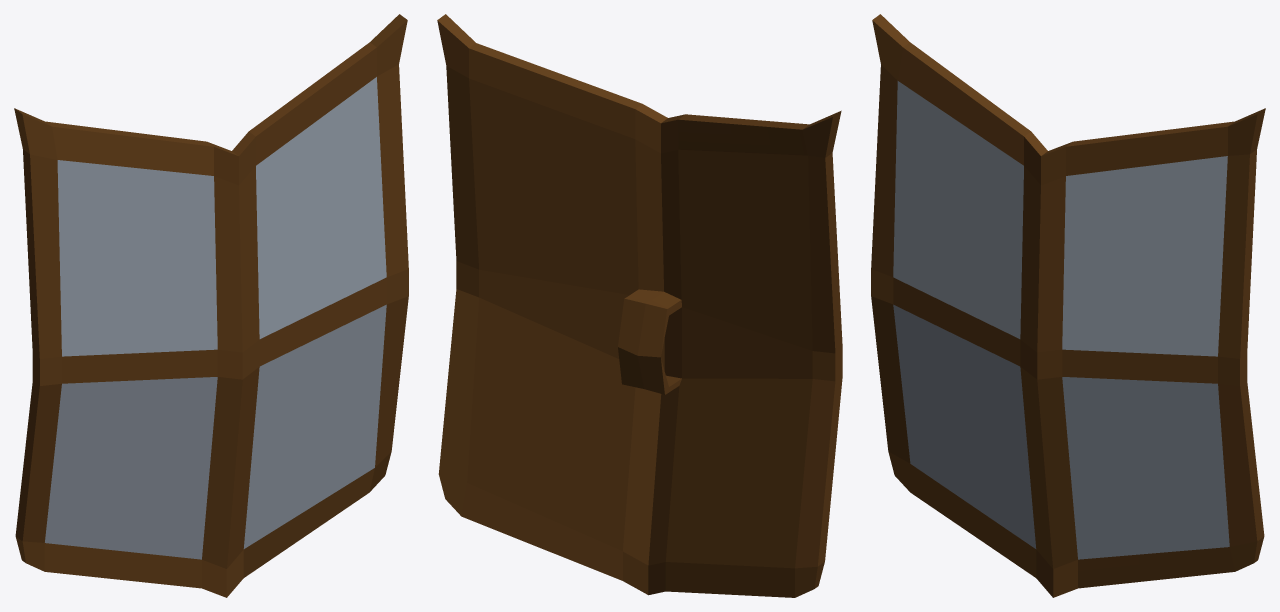
File: SteelKiteshield.glb
The picture shows the model from 3 angles, left to right: view 1: azimuth 30°, elevation 25°; view 2: azimuth 150°, elevation 25°; view 3: azimuth 330°, elevation 25°; orthographic projection. The views are drawn at different scales.
Parts seen in each view (by area): view 1: Kiteshield; view 2: Kiteshield; view 3: Kiteshield.
Boxes of the visible parts, x1=… form: Kiteshield: x1=14, y1=14, x2=408, y2=597; Kiteshield: x1=437, y1=14, x2=842, y2=597; Kiteshield: x1=871, y1=14, x2=1265, y2=597.
Size of the model in its own units: 0.6266 by 0.8115 by 0.12.
